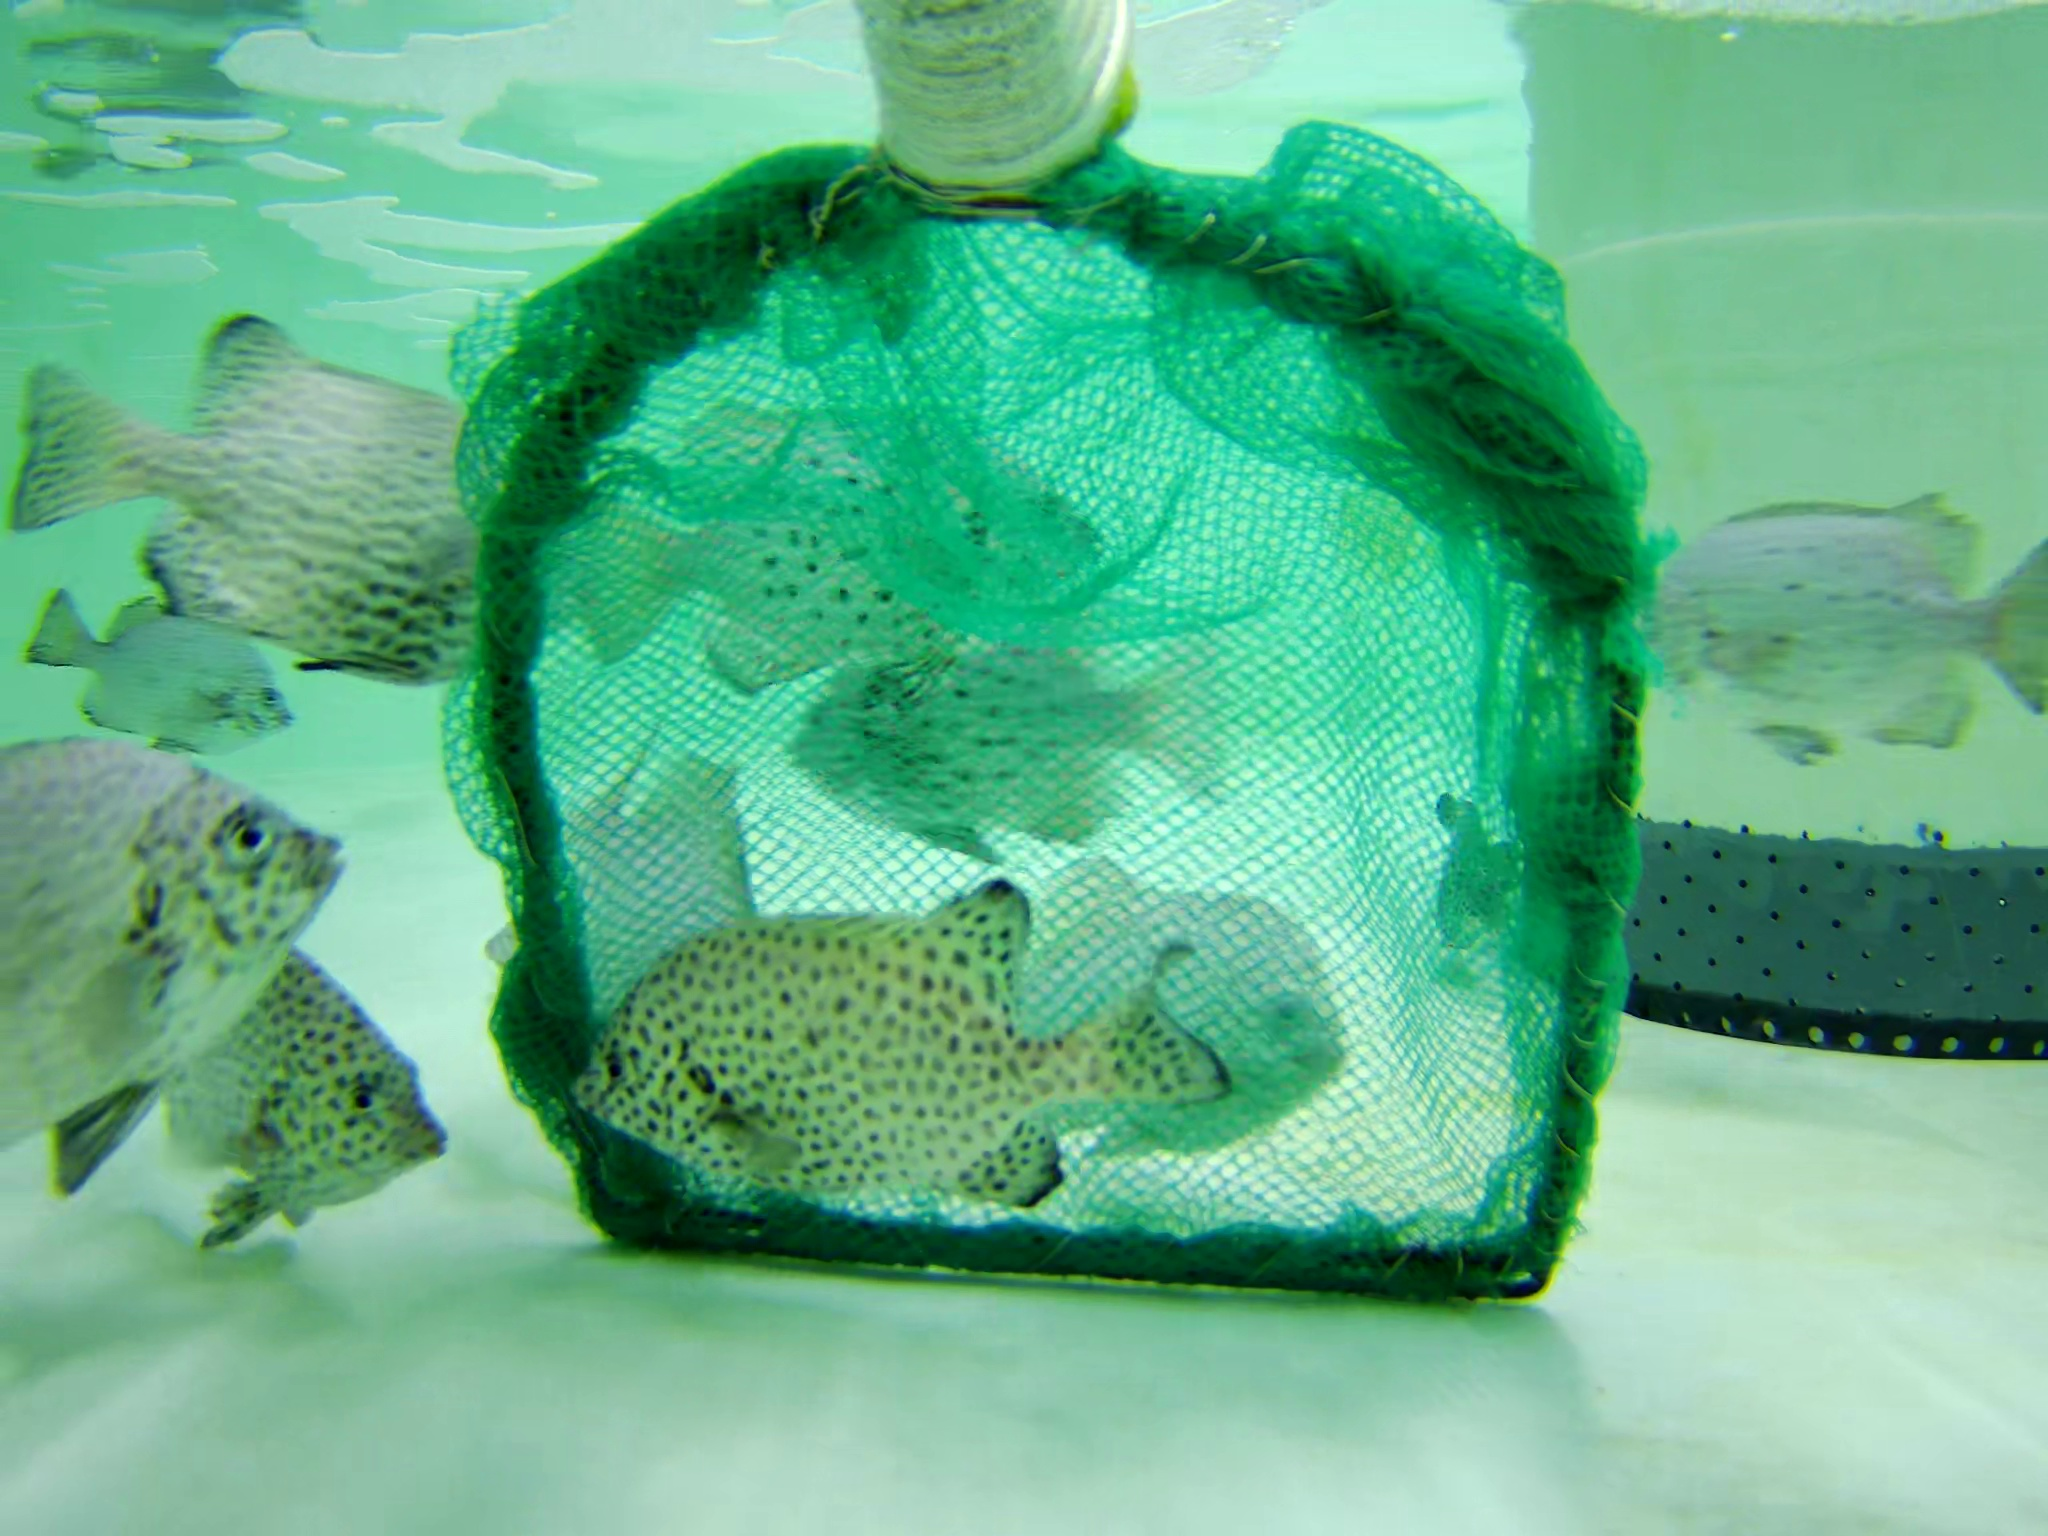fish: (576, 883, 1227, 1200), (19, 308, 552, 687), (2, 726, 369, 1147), (577, 423, 1103, 666), (953, 855, 1353, 1160), (1608, 499, 2048, 773), (169, 929, 463, 1244), (801, 657, 1242, 850), (503, 747, 756, 986), (31, 592, 306, 763), (1430, 784, 1521, 963)
